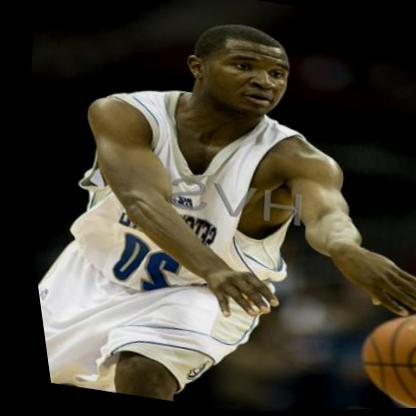basketball: (337, 302, 416, 411)
